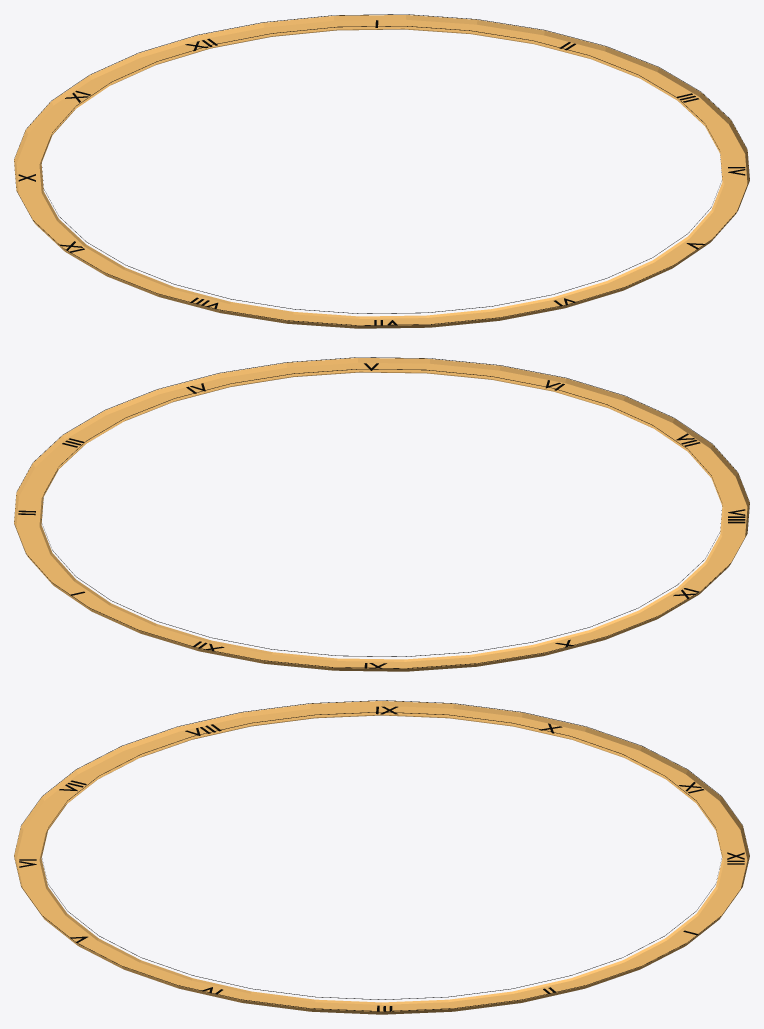
File: Clock_dial.gltf
The picture shows the model from 3 angles, top to bottom: view 1: azimuth 30°, elevation 25°; view 2: azimuth 150°, elevation 25°; view 3: azimuth 270°, elevation 25°; orthographic projection.
Parts seen in each view (by area): view 1: Circle.012, Circle.013; view 2: Circle.012, Circle.013; view 3: Circle.012, Circle.013.
Boxes of the visible parts, x1,y1,x2,y2 form: Circle.012: (14,15,749,328); Circle.013: (14,14,749,325); Circle.012: (14,358,749,671); Circle.013: (14,357,749,668); Circle.012: (14,701,749,1014); Circle.013: (14,700,749,1011).
Size of the model in its own units: 543 by 3.68 by 543.
